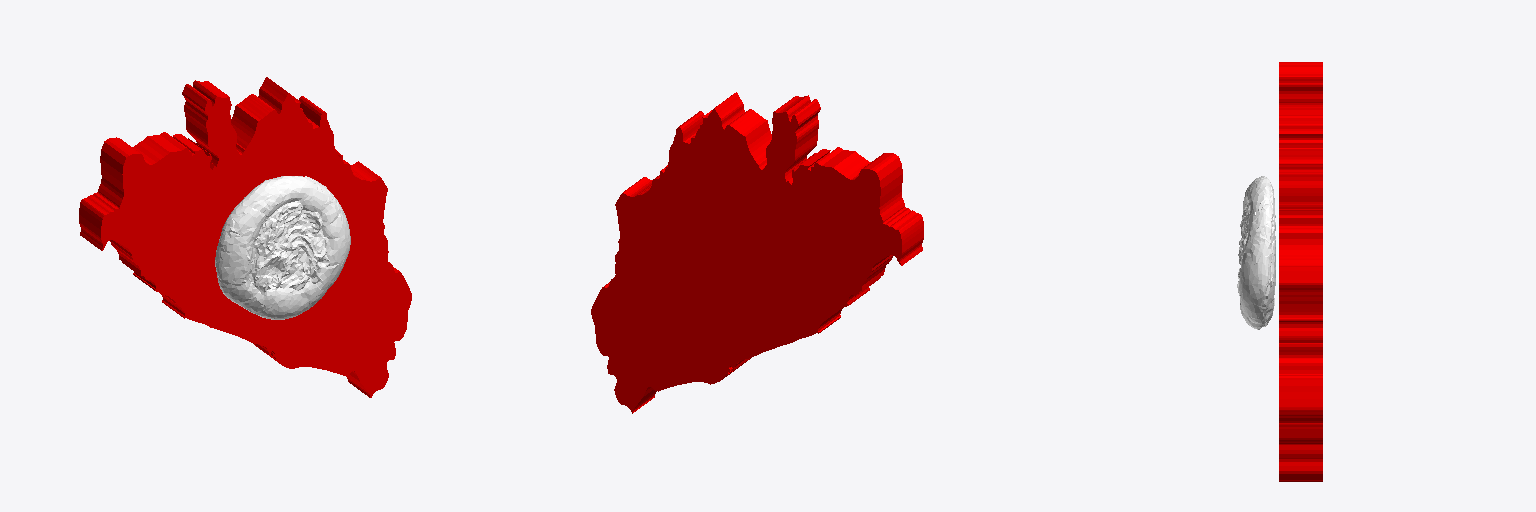
The model's file is Oaxaca.obj.
3 renders of one model, left to right at view 1: azimuth 30°, elevation 25°; view 2: azimuth 150°, elevation 25°; view 3: azimuth 270°, elevation 25°, orthographic.
Parts seen in each view (by area): view 1: group2 group_0_[number redacted], sweet_bun group2; view 2: group2 group_0_[number redacted]; view 3: group2 group_0_[number redacted], sweet_bun group2.
Boxes of the visible parts, x1=… form: group2 group_0_[number redacted]: x1=79, y1=77, x2=411, y2=397; sweet_bun group2: x1=215, y1=176, x2=350, y2=319; group2 group_0_[number redacted]: x1=591, y1=92, x2=923, y2=413; group2 group_0_[number redacted]: x1=1279, y1=62, x2=1322, y2=481; sweet_bun group2: x1=1237, y1=176, x2=1275, y2=329.
Bounding box in the file's own units: 25.32 × 26.43 × 6.05.